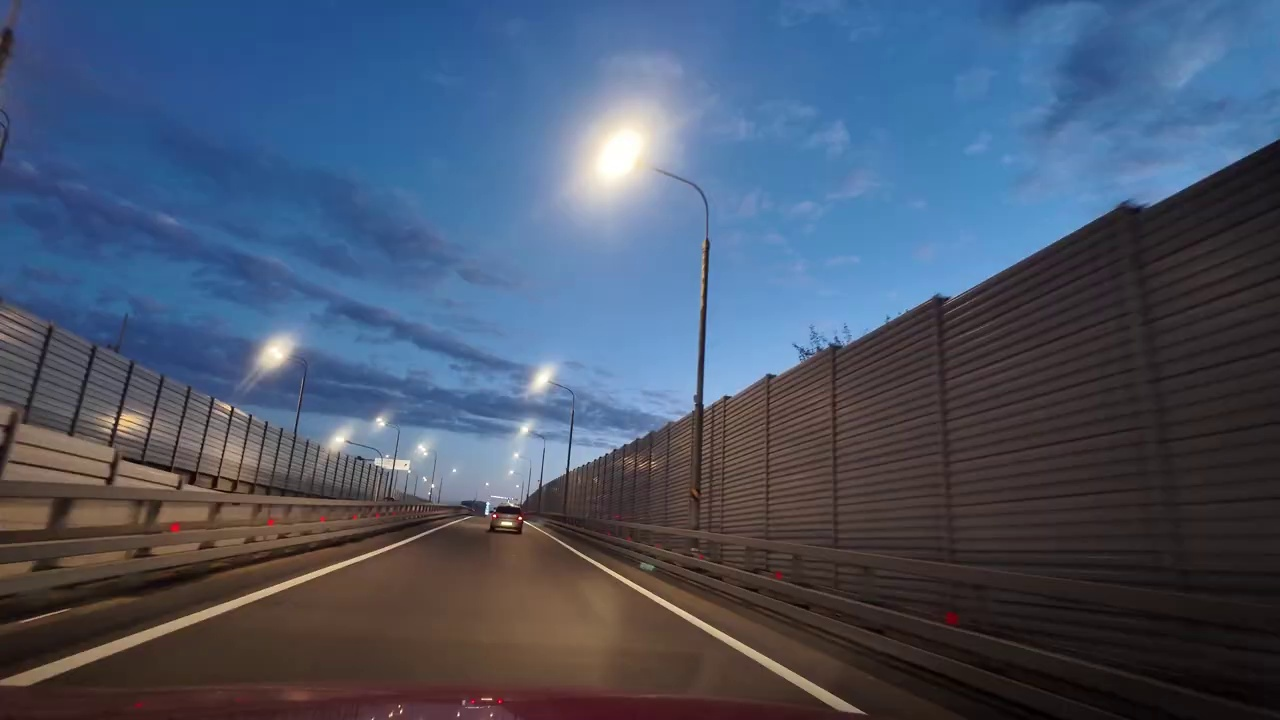acesa: (591, 122, 652, 187), (254, 335, 295, 375), (525, 362, 556, 396)
